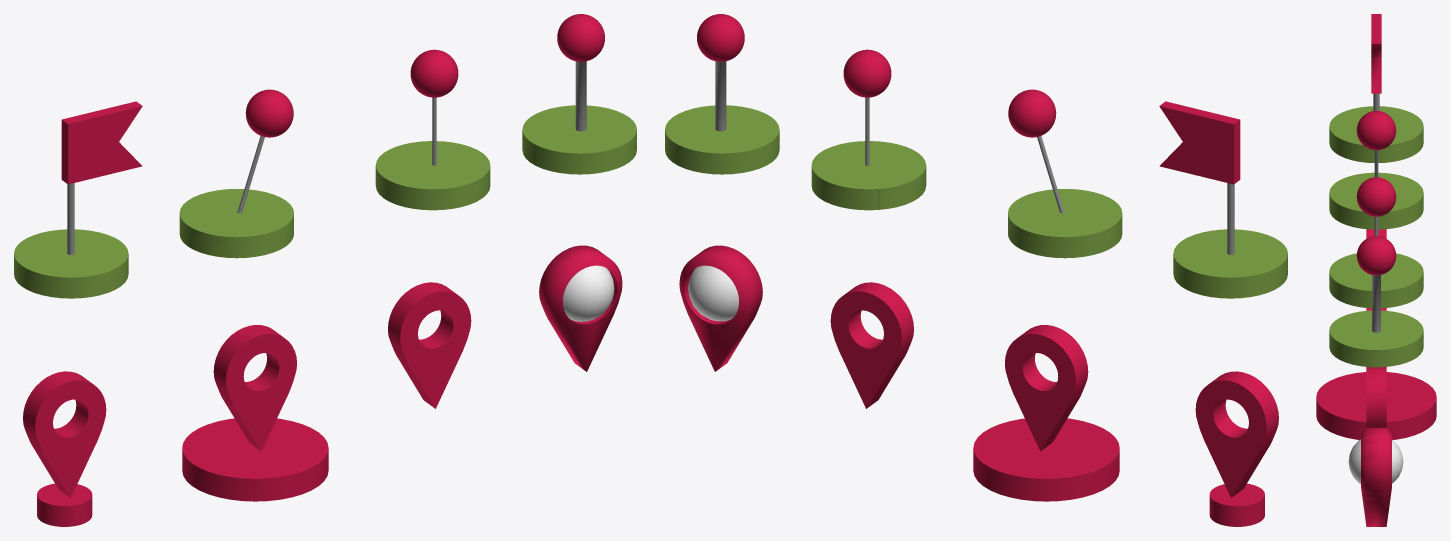
File: 3D icon PINS.fbx
The picture shows the model from 3 angles, left to right: view 1: azimuth 30°, elevation 25°; view 2: azimuth 150°, elevation 25°; view 3: azimuth 270°, elevation 25°; orthographic projection. The views are drawn at different scales.
Parts seen in each view (by area): view 1: pin_5, pin_flag, pin_3, pin_1, pin_2, pin_4, pin_7, pin_6; view 2: pin_5, pin_flag, pin_3, pin_1, pin_2, pin_4, pin_7, pin_6; view 3: pin_3, pin_5, pin_2, pin_1, pin_flag, pin_7, pin_6.
Boxes of the visible parts, box(x1,y1,x2,y2) form: pin_5: box(182, 325, 328, 501); pin_flag: box(14, 101, 142, 298); pin_3: box(522, 14, 636, 174); pin_1: box(179, 89, 293, 258); pin_2: box(375, 49, 490, 210); pin_4: box(23, 371, 106, 526); pin_7: box(539, 245, 622, 371); pin_6: box(388, 282, 471, 408); pin_5: box(973, 325, 1119, 501); pin_flag: box(1159, 101, 1287, 298); pin_3: box(665, 14, 779, 174); pin_1: box(1008, 89, 1122, 258); pin_2: box(811, 49, 926, 210); pin_4: box(1195, 371, 1278, 526); pin_7: box(679, 245, 762, 371); pin_6: box(830, 282, 913, 408); pin_3: box(1329, 236, 1423, 367); pin_5: box(1316, 308, 1436, 439); pin_2: box(1329, 177, 1423, 308); pin_1: box(1329, 110, 1423, 229); pin_flag: box(1329, 14, 1423, 162); pin_7: box(1348, 428, 1403, 526); pin_6: box(1366, 367, 1386, 427).
Bounding box in the file's own units: 95.83 × 59.56 × 20.
8 materials, 8 textured.
